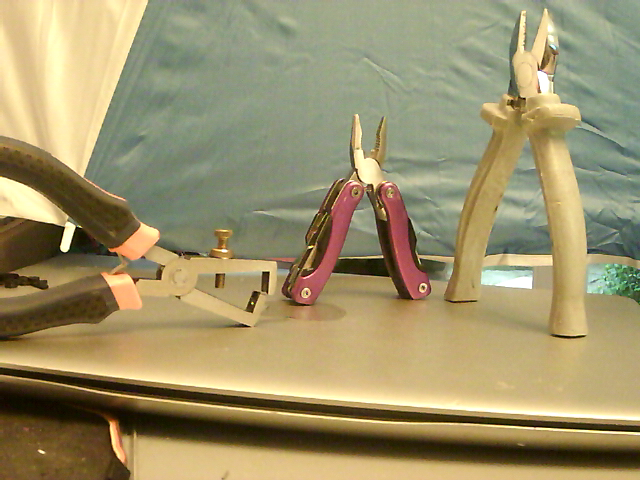pliers: (441, 3, 595, 339), (280, 113, 434, 308)
